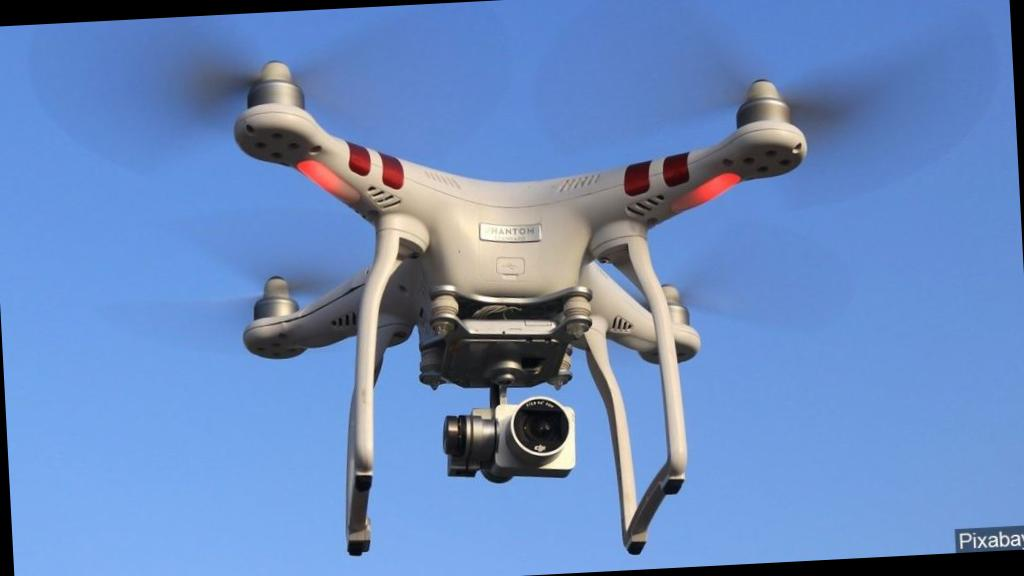drone: (166, 8, 898, 478)
